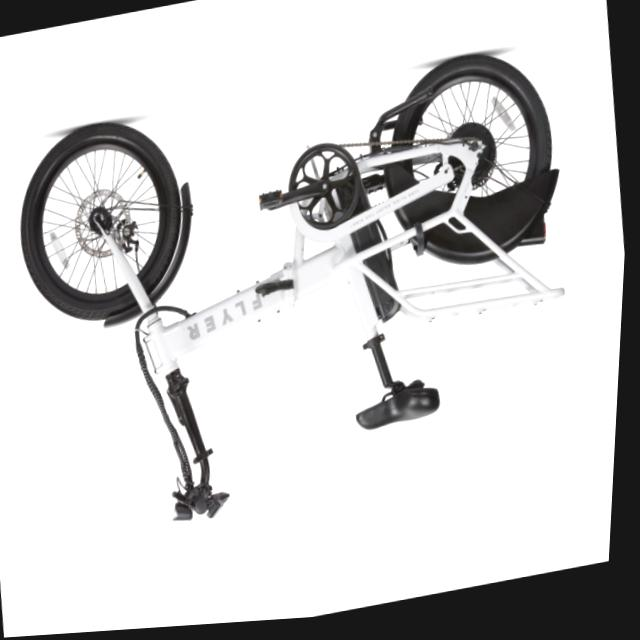folding-bike: (0, 39, 608, 556)
